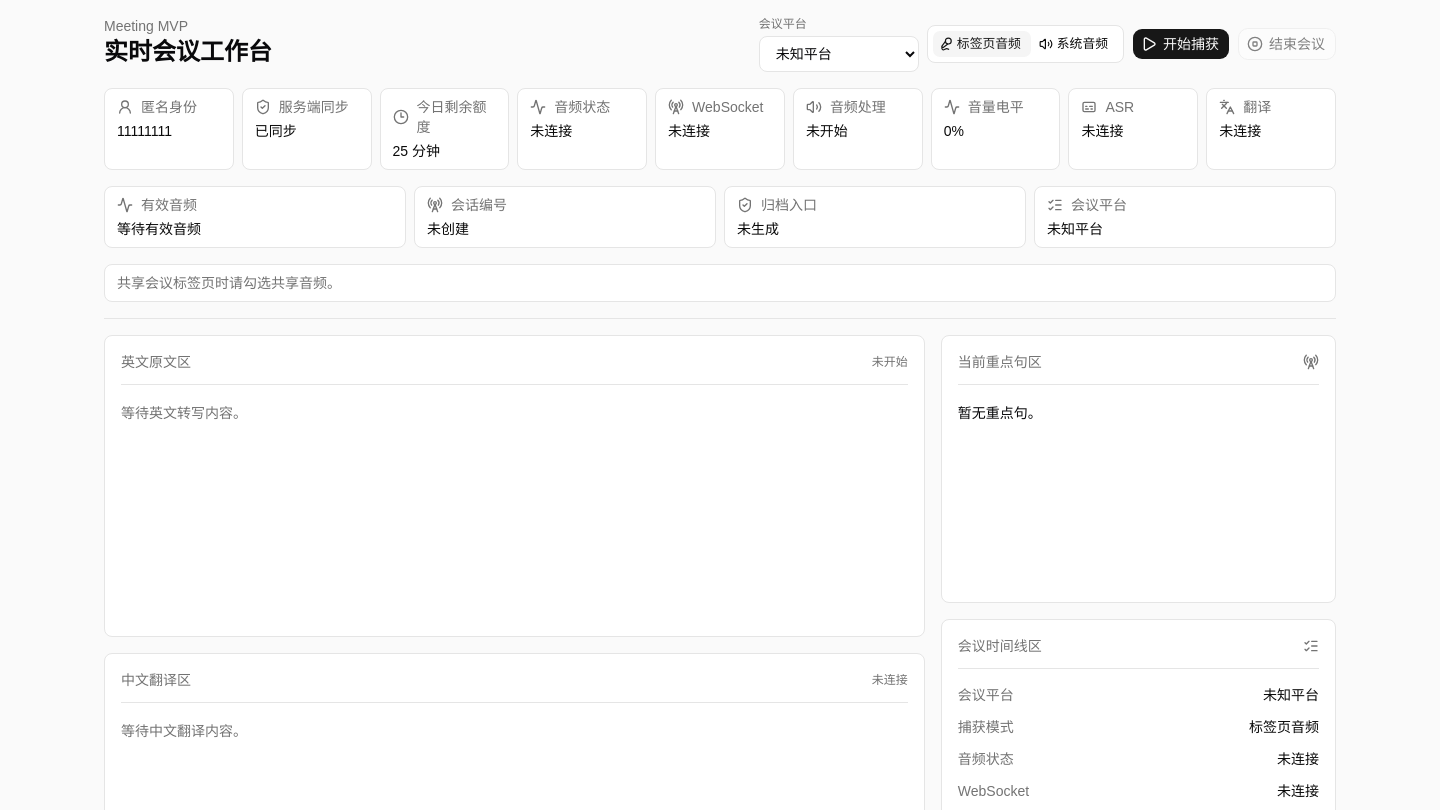
Test: App › updates audio level and effective audio state from worklet samples
Click the button "开始捕获".
click(1181, 44)  # box [1132,28,1230,60]
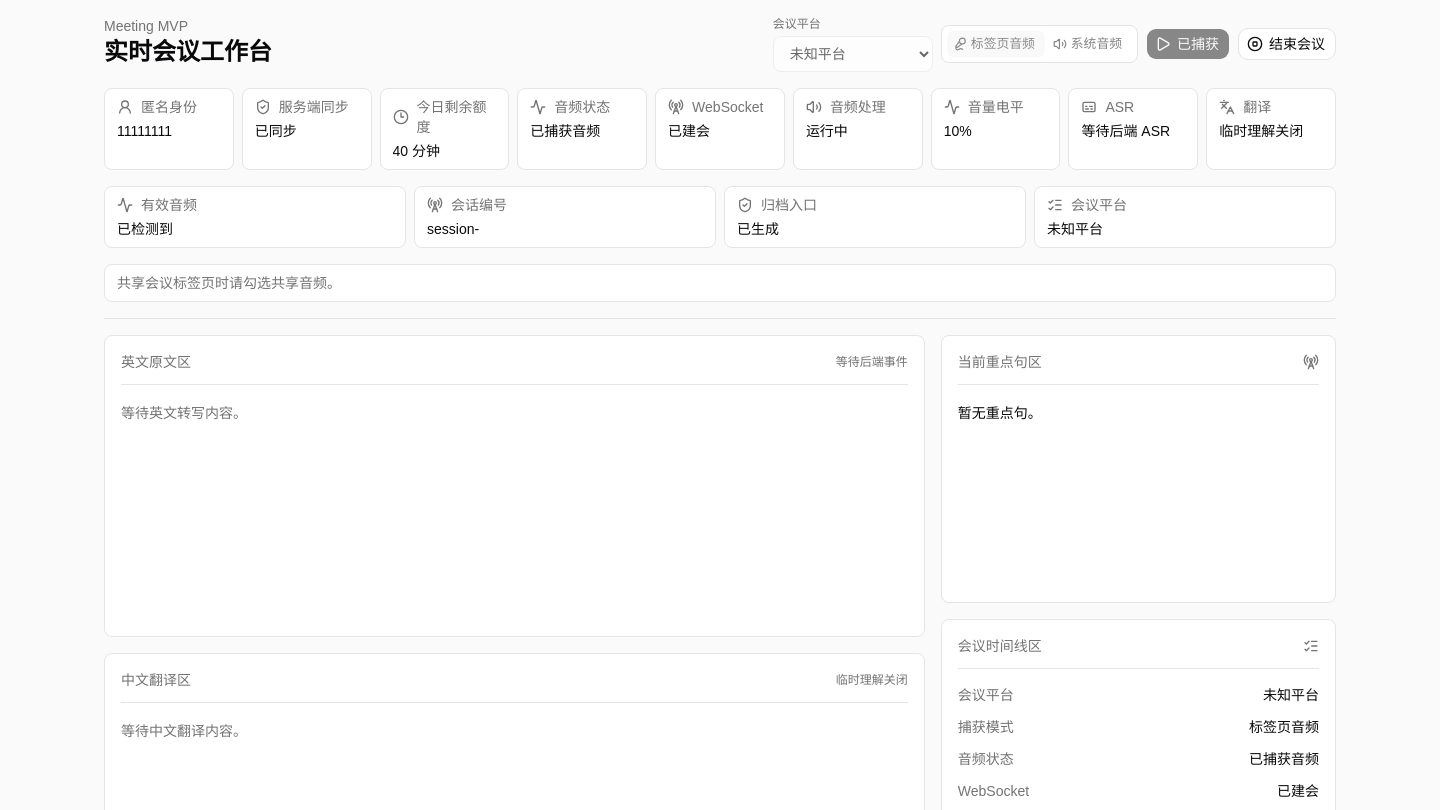
expect the text "已建会" next to "运行中" is shown: met, box [668,123,710,139]
expect the text "已检测到" is shown: met, box [117,221,173,237]
expect the text "10%" is shown: met, box [944,123,972,139]
